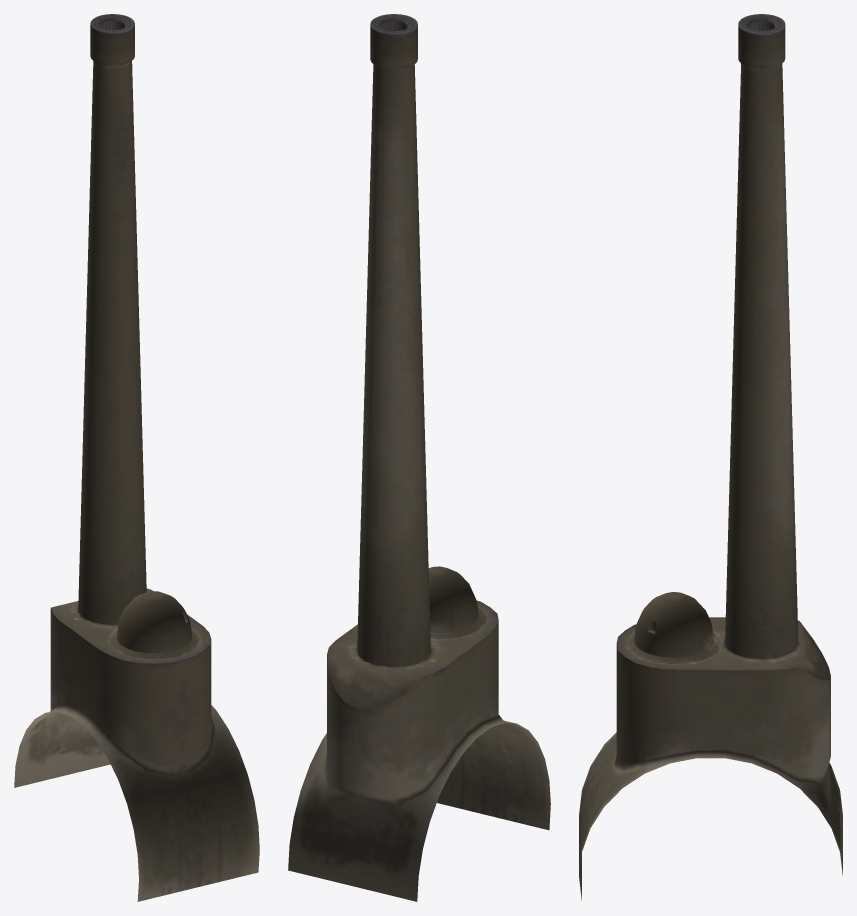
Rendered from Gun_02.glb.
3 views of the same model, side by side, from view 1: azimuth 30°, elevation 25°; view 2: azimuth 150°, elevation 25°; view 3: azimuth 270°, elevation 25° (orthographic). The views are drawn at different scales.
Parts seen in each view (by area): view 1: set_0_group_0; view 2: set_0_group_0; view 3: set_0_group_0.
Boxes of the visible parts, x1,y1,x2,y2 form: set_0_group_0: (14,14,259,901); set_0_group_0: (288,14,550,901); set_0_group_0: (579,14,842,900).
Size of the model in its own units: 0.2026 by 1.28 by 0.3628.
Materials: 1 (1 with a texture image).
